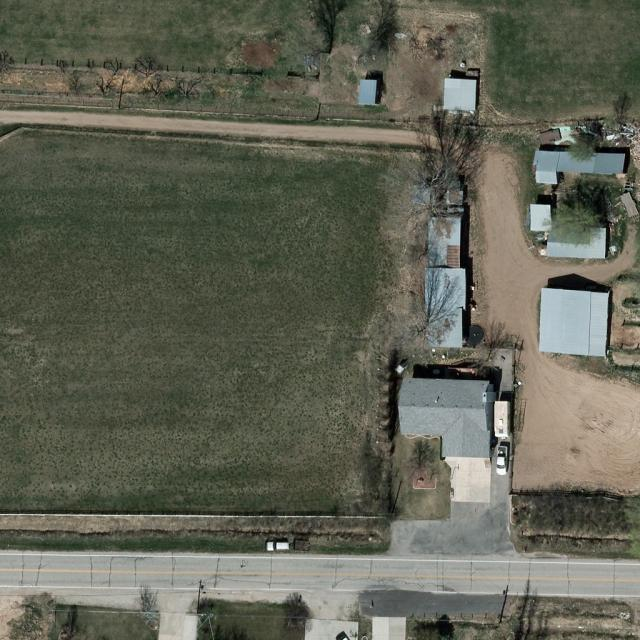vehicle: (496, 446, 510, 476), (265, 542, 290, 552)
